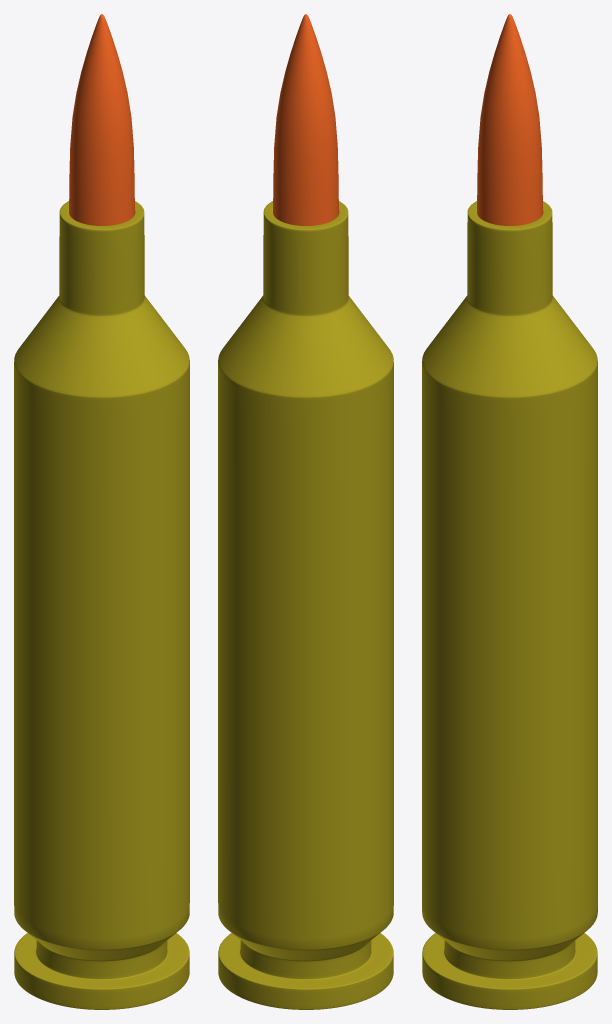
File: bullet.fbx
3 renders of one model, left to right at view 1: azimuth 30°, elevation 25°; view 2: azimuth 150°, elevation 25°; view 3: azimuth 270°, elevation 25°, orthographic.
Parts seen in each view (by area): view 1: Cylinder, Cylinder.001; view 2: Cylinder, Cylinder.001; view 3: Cylinder, Cylinder.001.
Boxes of the visible parts, x1,y1,x2,y2 form: Cylinder: [14, 201, 189, 1009]; Cylinder.001: [69, 14, 134, 225]; Cylinder: [218, 201, 393, 1009]; Cylinder.001: [273, 14, 338, 225]; Cylinder: [422, 201, 597, 1009]; Cylinder.001: [477, 14, 542, 225].
Size of the model in its own units: 2.75 by 16.54 by 2.75.
Materials: 1 (1 with a texture image).
